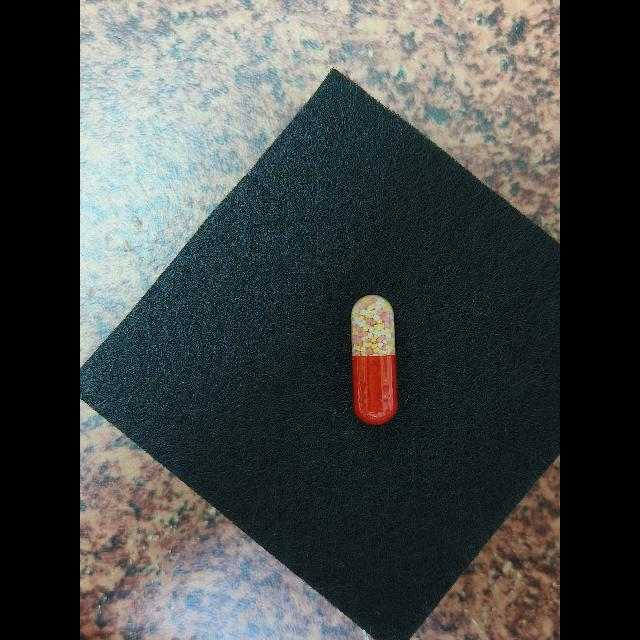Intact Capsule: (351, 294, 397, 425)
